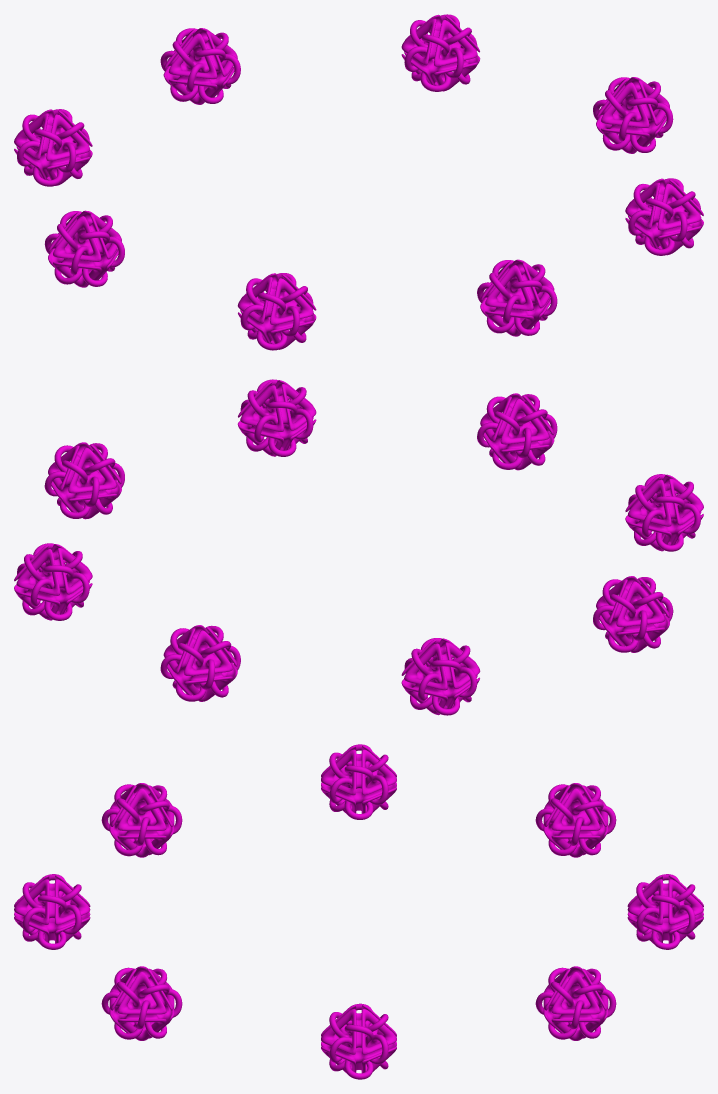
File: dode_ring.fbx
3 renders of one model, top to bottom at view 1: azimuth 30°, elevation 25°; view 2: azimuth 150°, elevation 25°; view 3: azimuth 270°, elevation 25°, orthographic. The views are drawn at different scales.
Visible parts, largest first — view 1: model_with_subsurface_scattering_2_object_1_4, model_with_subsurface_scattering_2_object_1_0, model_with_subsurface_scattering_2_object_1_6, model_with_subsurface_scattering_2_object_1_2, model_with_subsurface_scattering_2_object_1_5, model_with_subsurface_scattering_2_object_1_1, model_with_subsurface_scattering_2_object_1_7, model_with_subsurface_scattering_2_object_1_3; view 2: model_with_subsurface_scattering_2_object_1_0, model_with_subsurface_scattering_2_object_1_4, model_with_subsurface_scattering_2_object_1_2, model_with_subsurface_scattering_2_object_1_6, model_with_subsurface_scattering_2_object_1_3, model_with_subsurface_scattering_2_object_1_1, model_with_subsurface_scattering_2_object_1_5, model_with_subsurface_scattering_2_object_1_7; view 3: model_with_subsurface_scattering_2_object_1_5, model_with_subsurface_scattering_2_object_1_1, model_with_subsurface_scattering_2_object_1_3, model_with_subsurface_scattering_2_object_1_7, model_with_subsurface_scattering_2_object_1_4, model_with_subsurface_scattering_2_object_1_0, model_with_subsurface_scattering_2_object_1_2, model_with_subsurface_scattering_2_object_1_6.
Boxes of the visible parts, x1,y1,x2,y2 form: model_with_subsurface_scattering_2_object_1_4: (477,259,557,336); model_with_subsurface_scattering_2_object_1_0: (160,28,240,104); model_with_subsurface_scattering_2_object_1_6: (44,210,124,287); model_with_subsurface_scattering_2_object_1_2: (593,77,673,153); model_with_subsurface_scattering_2_object_1_5: (237,273,316,350); model_with_subsurface_scattering_2_object_1_1: (401,14,480,91); model_with_subsurface_scattering_2_object_1_7: (14,109,92,186); model_with_subsurface_scattering_2_object_1_3: (625,178,703,255); model_with_subsurface_scattering_2_object_1_0: (160,625,240,701); model_with_subsurface_scattering_2_object_1_4: (477,393,557,470); model_with_subsurface_scattering_2_object_1_2: (44,442,124,519); model_with_subsurface_scattering_2_object_1_6: (593,576,673,652); model_with_subsurface_scattering_2_object_1_3: (237,379,316,456); model_with_subsurface_scattering_2_object_1_1: (14,543,92,620); model_with_subsurface_scattering_2_object_1_5: (625,474,703,551); model_with_subsurface_scattering_2_object_1_7: (401,638,480,715); model_with_subsurface_scattering_2_object_1_5: (101,783,182,857); model_with_subsurface_scattering_2_object_1_1: (535,966,616,1040); model_with_subsurface_scattering_2_object_1_3: (101,966,182,1040); model_with_subsurface_scattering_2_object_1_7: (535,783,616,857); model_with_subsurface_scattering_2_object_1_4: (14,874,90,949); model_with_subsurface_scattering_2_object_1_0: (627,874,703,949); model_with_subsurface_scattering_2_object_1_2: (321,1003,396,1079); model_with_subsurface_scattering_2_object_1_6: (321,744,396,819).
Bounding box in the file's own units: 51.72 × 5.72 × 51.72.
